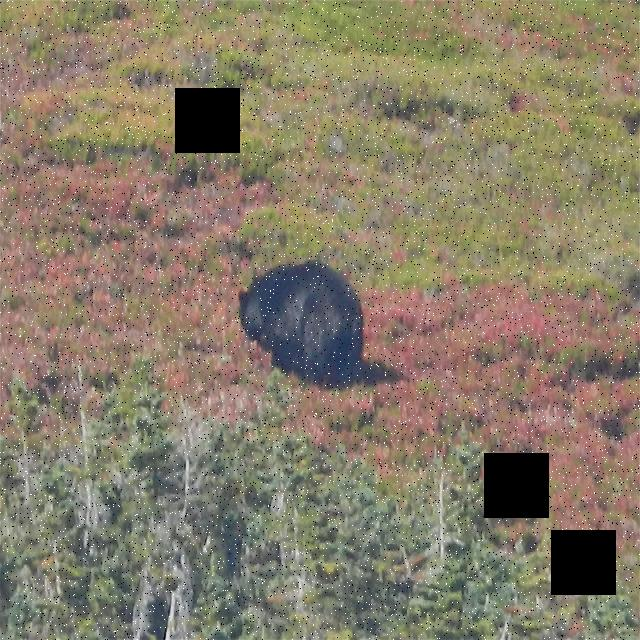Bear: (227, 250, 376, 388)
